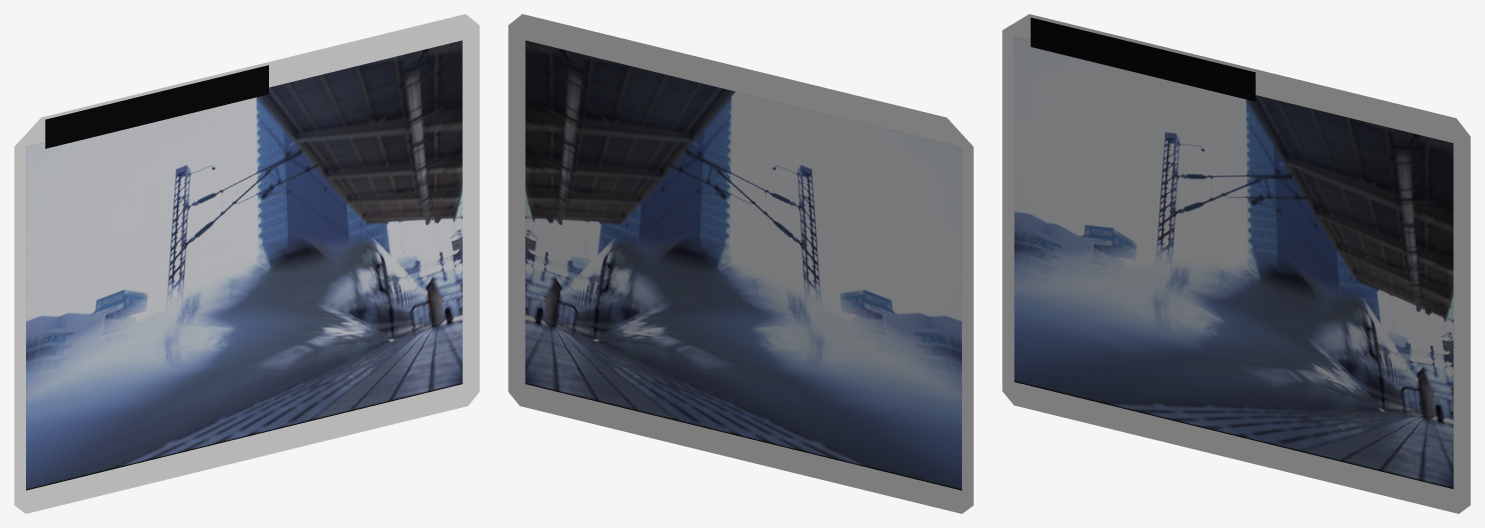
Rendered from PHOTO00.glb.
3 views of the same model, side by side, from view 1: azimuth 30°, elevation 25°; view 2: azimuth 150°, elevation 25°; view 3: azimuth 330°, elevation 25° (orthographic).
Parts seen in each view (by area): view 1: photo; view 2: photo; view 3: photo.
Part boxes in pixels (box(x1,y1,x2,y2)): photo: box(14, 14, 479, 513); photo: box(508, 14, 973, 513); photo: box(1002, 14, 1470, 513).
Bounding box in the file's own units: 26.66 × 21.49 × 0.1408.
3 materials, 3 textured.
